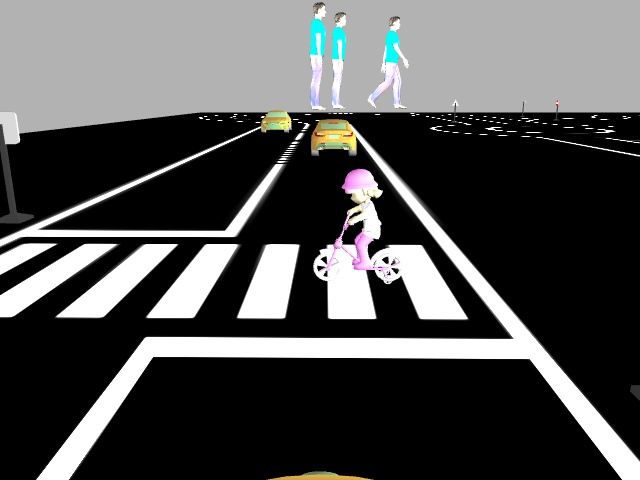Pedestrian: (306, 170, 410, 285)
